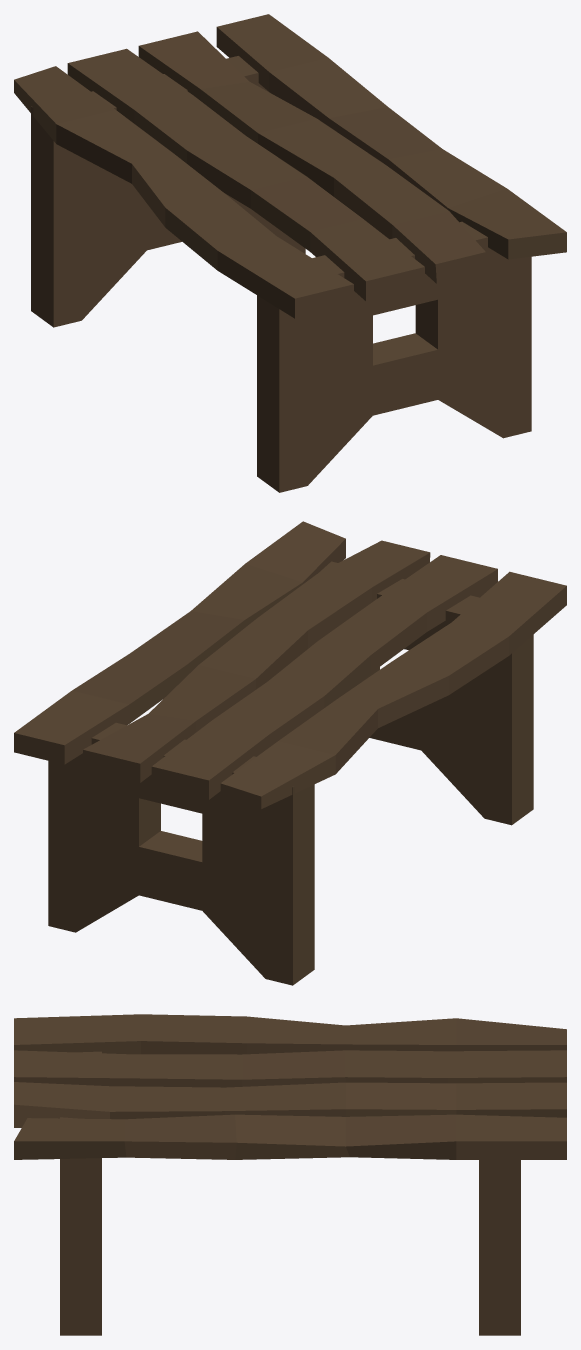
Rendered from Bench01.glb.
3 views of the same model, one above another, from view 1: azimuth 30°, elevation 25°; view 2: azimuth 150°, elevation 25°; view 3: azimuth 270°, elevation 25° (orthographic). The views are drawn at different scales.
Visible parts, largest first — view 1: Cube; view 2: Cube; view 3: Cube.
Boxes of the visible parts, bbox=[...] form: Cube: bbox=[14, 14, 566, 492]; Cube: bbox=[14, 521, 566, 985]; Cube: bbox=[14, 1014, 566, 1335].
Bounding box in the file's own units: 0.8215 × 0.6 × 1.51.
